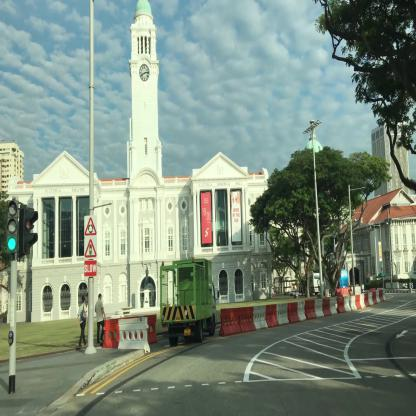green_traffic_light: (7, 201, 16, 251)
